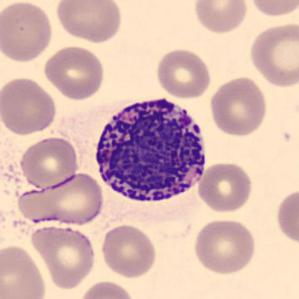Basophil: (89, 89, 212, 208)
RBC: (28, 223, 98, 290), (24, 170, 106, 227), (192, 216, 258, 276), (208, 74, 269, 138), (42, 44, 106, 102), (0, 75, 59, 137), (0, 0, 55, 64), (247, 20, 298, 89), (98, 222, 158, 280), (18, 134, 81, 188), (154, 47, 214, 100), (196, 160, 254, 214), (53, 0, 123, 43), (0, 243, 48, 299), (191, 0, 250, 36), (274, 186, 298, 247), (77, 279, 137, 299), (247, 0, 298, 18)
